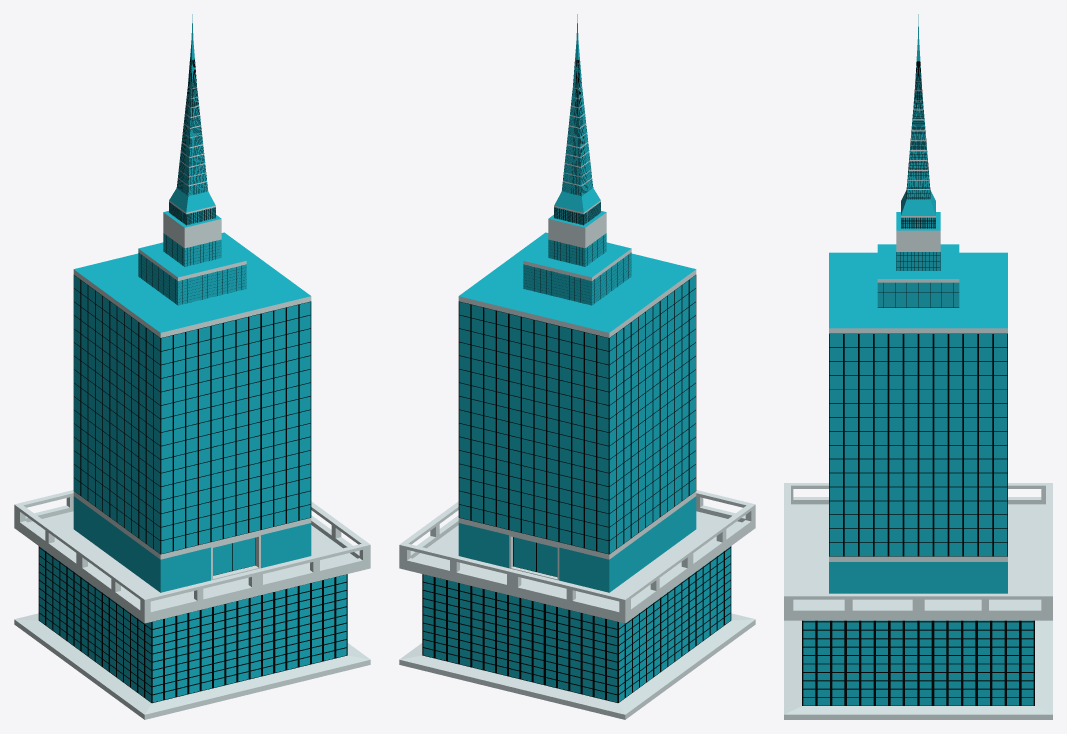
The model's file is Civic Towers.fbx.
3 views of the same model, side by side, from view 1: azimuth 30°, elevation 25°; view 2: azimuth 150°, elevation 25°; view 3: azimuth 270°, elevation 25° (orthographic). The views are drawn at different scales.
Parts seen in each view (by area): view 1: Civic Towers; view 2: Civic Towers; view 3: Civic Towers.
Part boxes in pixels (x1=…): Civic Towers: x1=14, y1=14, x2=370, y2=719; Civic Towers: x1=399, y1=14, x2=755, y2=719; Civic Towers: x1=784, y1=14, x2=1052, y2=719.
Bounding box in the file's own units: 200 × 533 × 200.
